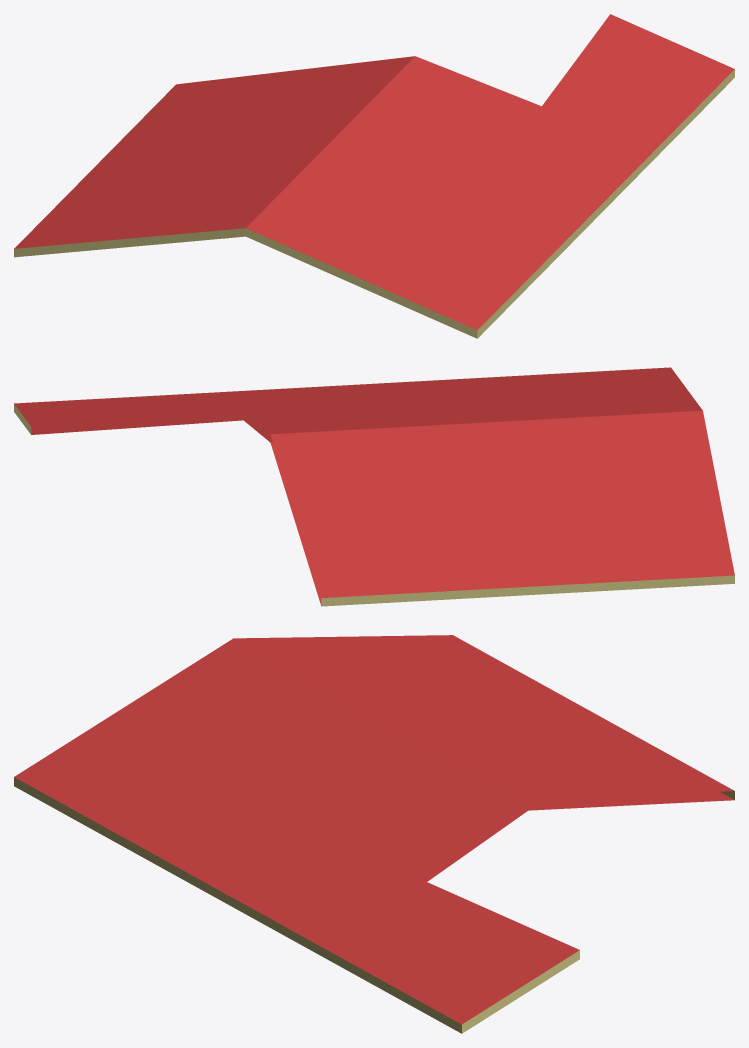
3 views of the same model, one above another, from view 1: azimuth 30°, elevation 25°; view 2: azimuth 150°, elevation 25°; view 3: azimuth 270°, elevation 25° (orthographic). The views are drawn at different scales.
Visible parts, largest first — view 1: group_3, group_4; view 2: group_3, group_4, group_5; view 3: group_3, group_4, group_5.
Boxes of the visible parts, <box> form: group_3: <box>14,14,734,330</box>; group_4: <box>14,69,734,338</box>; group_3: <box>14,367,734,598</box>; group_4: <box>14,404,734,606</box>; group_5: <box>31,412,321,605</box>; group_3: <box>14,635,734,1024</box>; group_4: <box>14,777,734,1033</box>; group_5: <box>419,791,734,881</box>.
Bounding box in the file's own units: 8.99 × 7.03 × 0.829.
